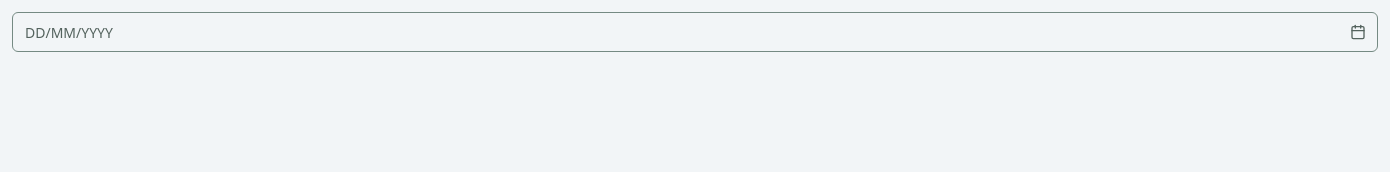
Test: day-first date entry › accepts valid day-first input and stores ISO, but rejects invalid dates
In the field named "Date": (695, 32) [12,12,1378,52], type "29092026"
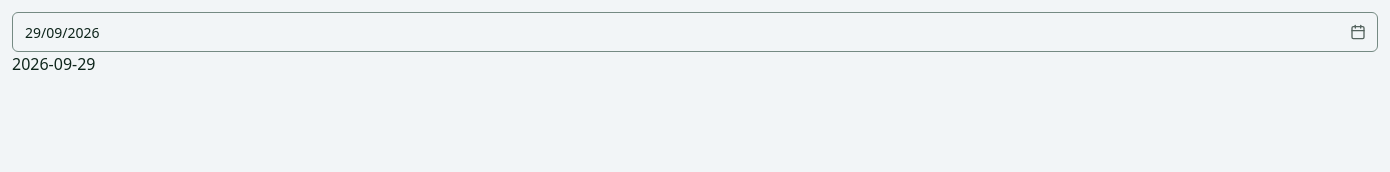
Expected: the field named "Date" holds "29/09/2026"
Expected: the text "2026-09-29" is shown, [12,53,96,75]
Replace the text in the field named "Date" with "31022026": (695, 32) [12,12,1378,52]
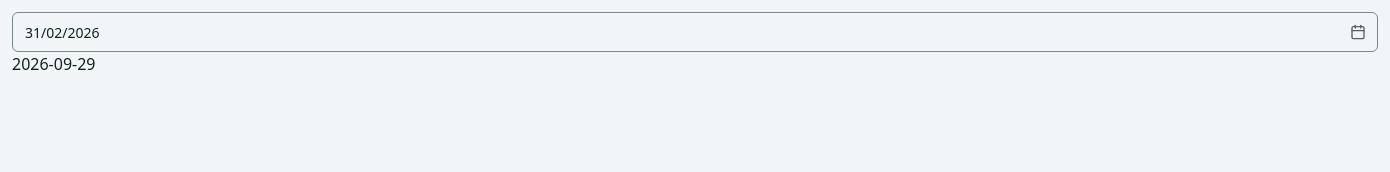
Expected: the text "2026-09-29" is shown, [12,53,96,75]
Leave the field named "Date", box [12,12,1378,52]
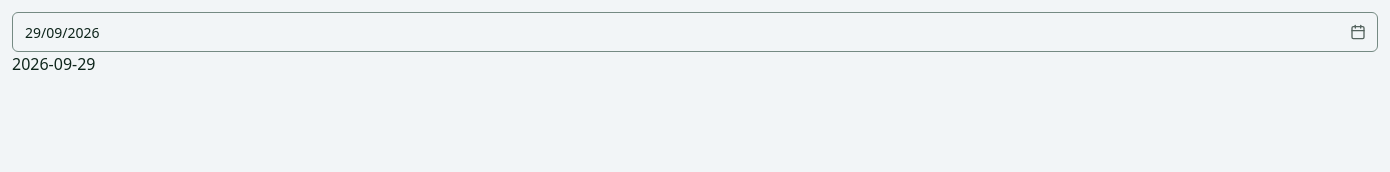
Expected: the field named "Date" holds "29/09/2026", [12,12,1378,52]
